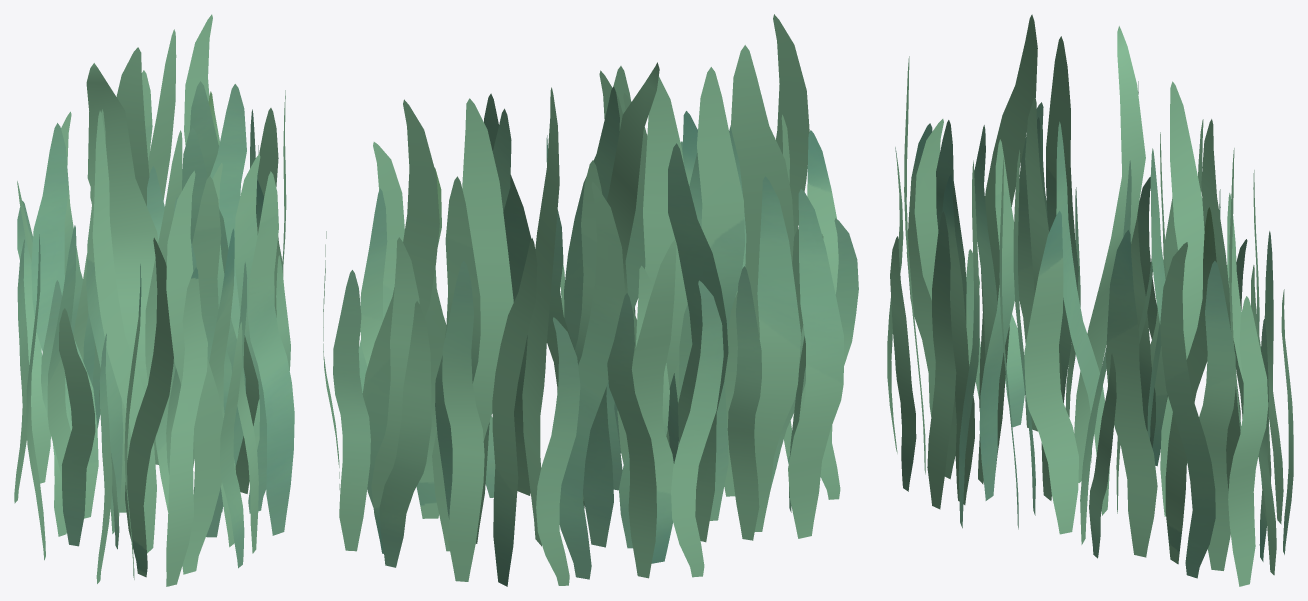
The model's file is Plants_1.2.fbx.
3 renders of one model, left to right at view 1: azimuth 30°, elevation 25°; view 2: azimuth 150°, elevation 25°; view 3: azimuth 270°, elevation 25°, orthographic. The views are drawn at different scales.
Parts seen in each view (by area): view 1: 5; view 2: 5; view 3: 5.
Boxes of the visible parts, left/top/right/bottom form: 5: left=14, top=14, right=294, bottom=586; 5: left=323, top=14, right=858, bottom=586; 5: left=887, top=14, right=1293, bottom=586.
Bounding box in the file's own units: 142 × 165 × 135.
